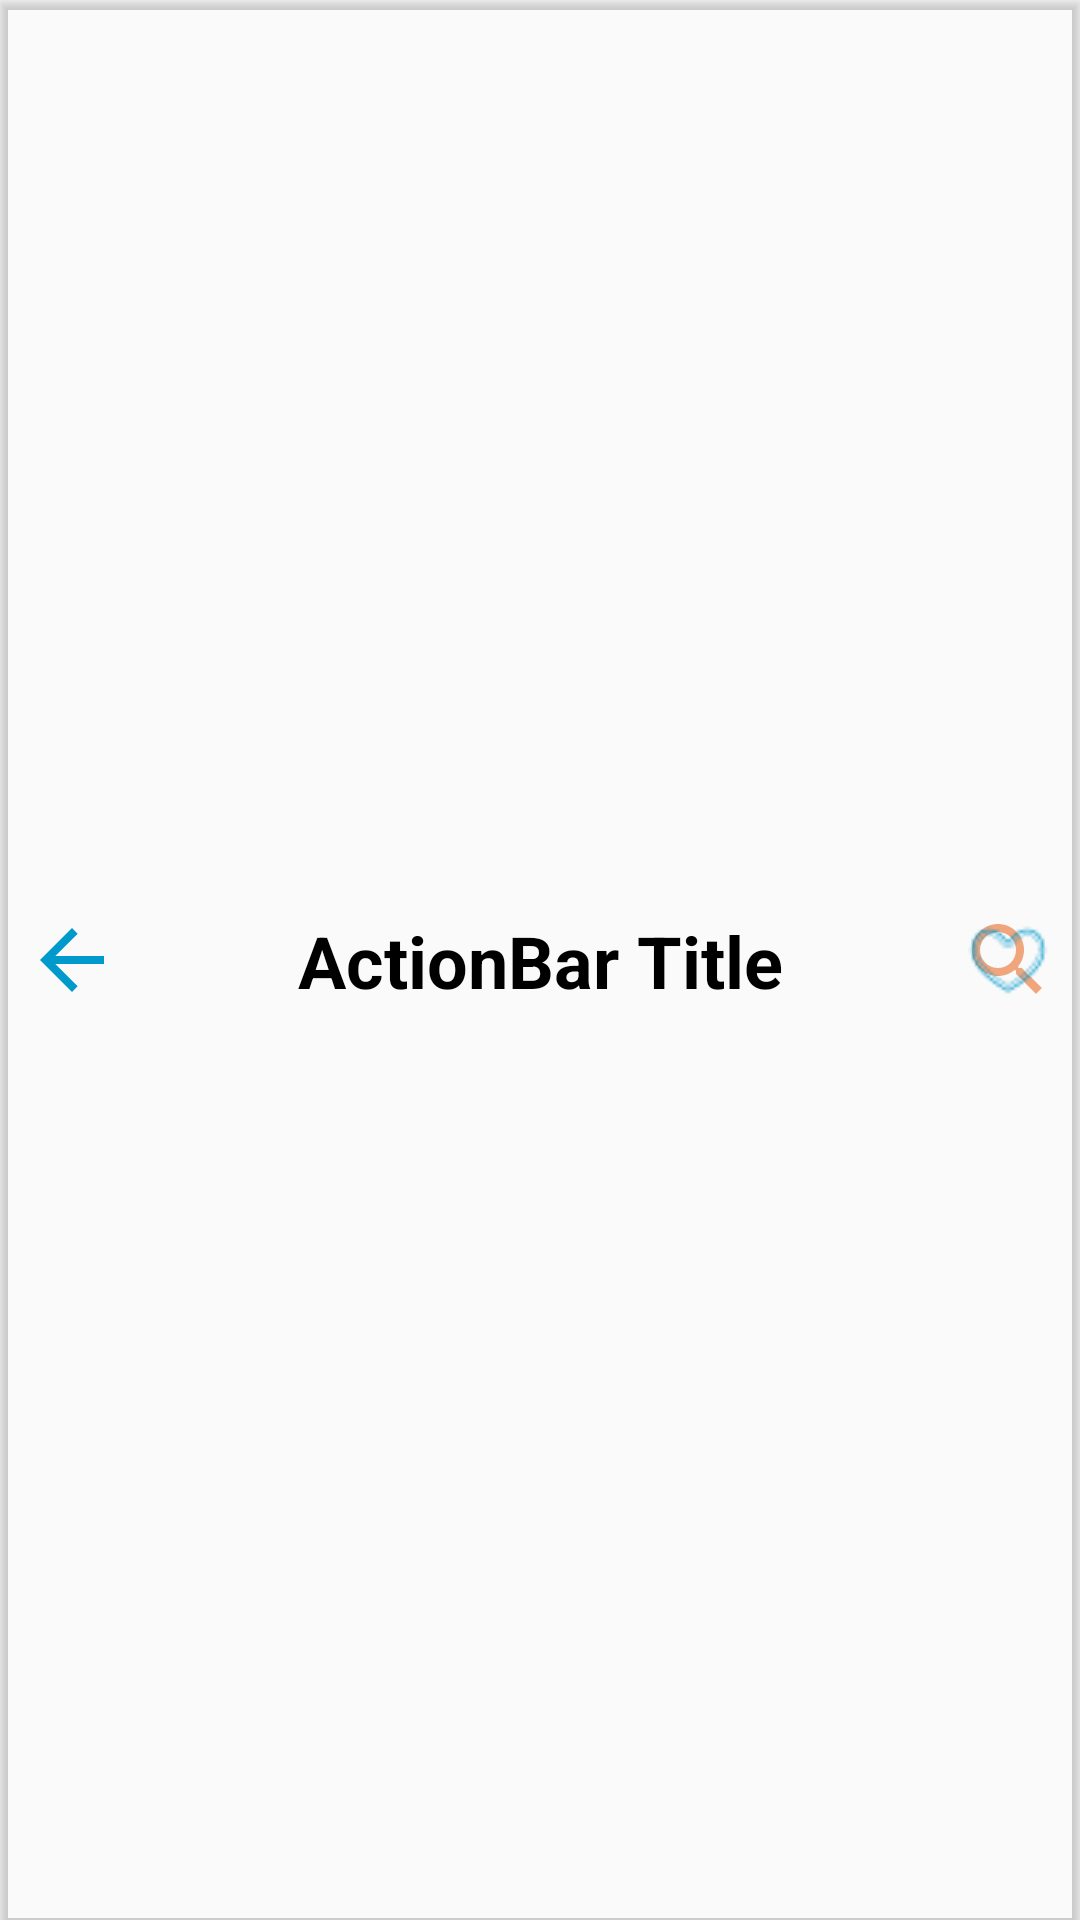

Where icons sit on this 1080w x 1920h app screen, as (left=x1, top=y1, right=x2, bottom=y2):
back: (left=40, top=928, right=104, bottom=992)
